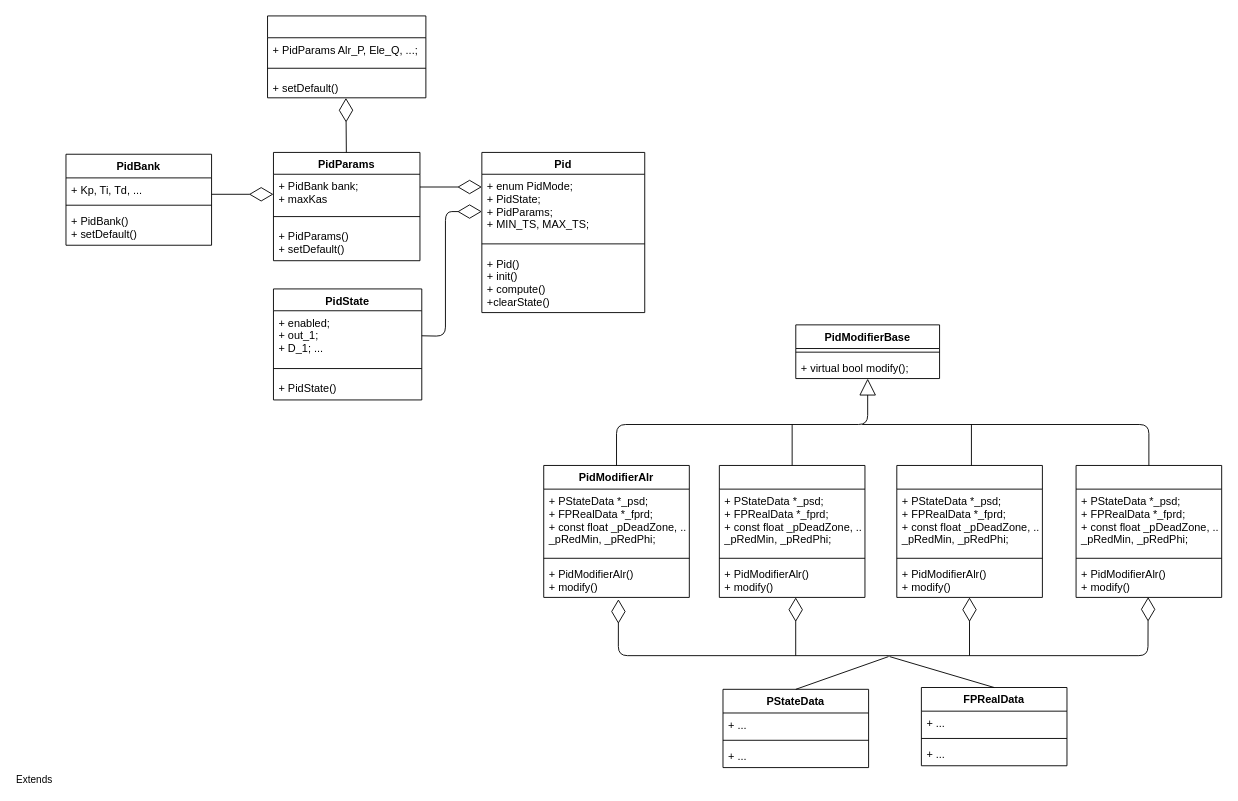
Image size: 1238x801. Some labels were removed from this diagram. The shapes that lost their labels are listed below. From the top down, each one's box as (x1, y1, x2, y2) in pixels, then its label:
(267, 15, 426, 98): PidParamsSet
(718, 465, 865, 597): PidModifierPhi
(896, 465, 1042, 597): PidModifierTheta
(1075, 465, 1222, 597): PidModifierThrottle
